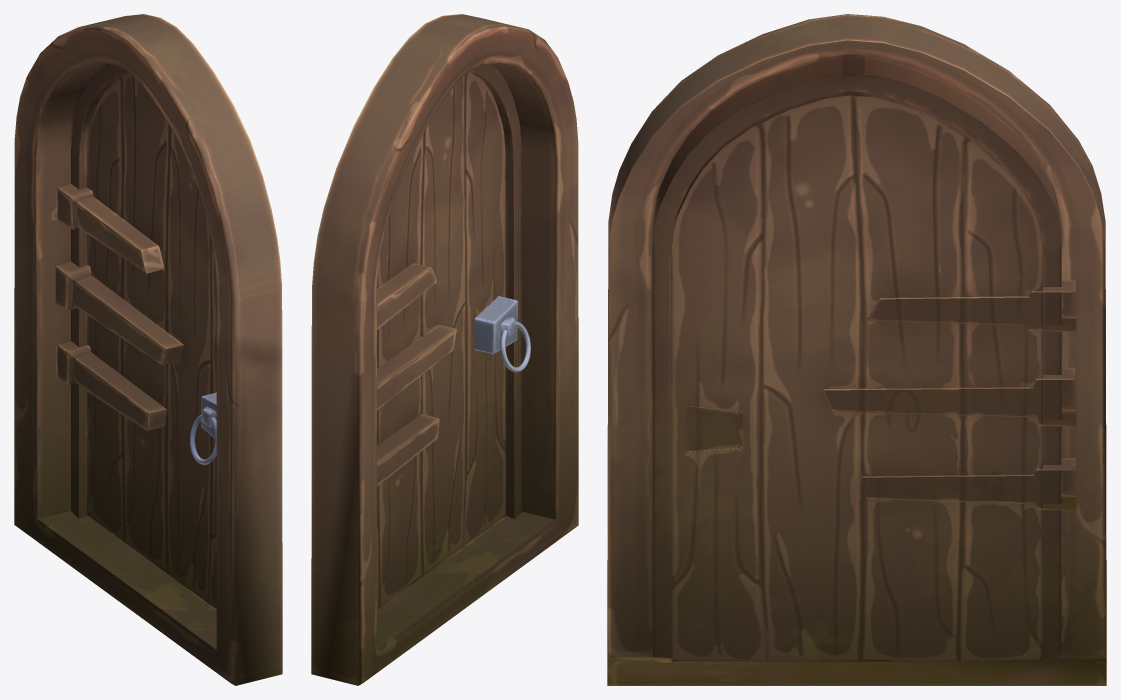
Rendered from SM_Door_04.fbx.
3 renders of one model, left to right at view 1: azimuth 30°, elevation 25°; view 2: azimuth 150°, elevation 25°; view 3: azimuth 270°, elevation 25°, orthographic. The views are drawn at different scales.
Visible parts, largest first — view 1: SM_Door_04_LOD0; view 2: SM_Door_04_LOD0; view 3: SM_Door_04_LOD0.
Part boxes in pixels (box(x1,y1,x2,y2)): SM_Door_04_LOD0: box(14, 14, 282, 685); SM_Door_04_LOD0: box(311, 14, 578, 685); SM_Door_04_LOD0: box(607, 14, 1106, 685).
Size of the model in its own units: 24.7 by 188 by 268.
1 material, 1 textured.
